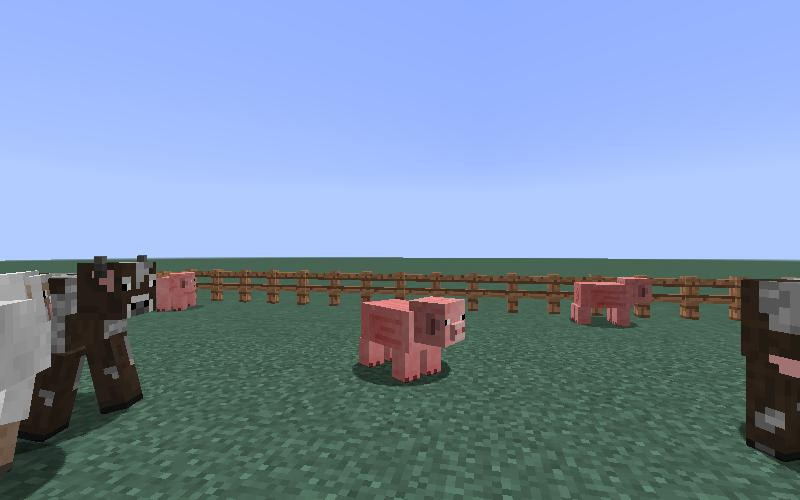cow: (26, 251, 157, 446)
pig: (352, 292, 468, 383), (567, 271, 654, 336), (157, 274, 197, 312)
